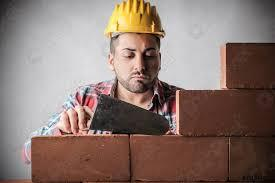brick: (31, 135, 131, 183), (131, 134, 229, 181), (179, 90, 274, 135), (226, 43, 274, 90), (229, 136, 275, 181)
